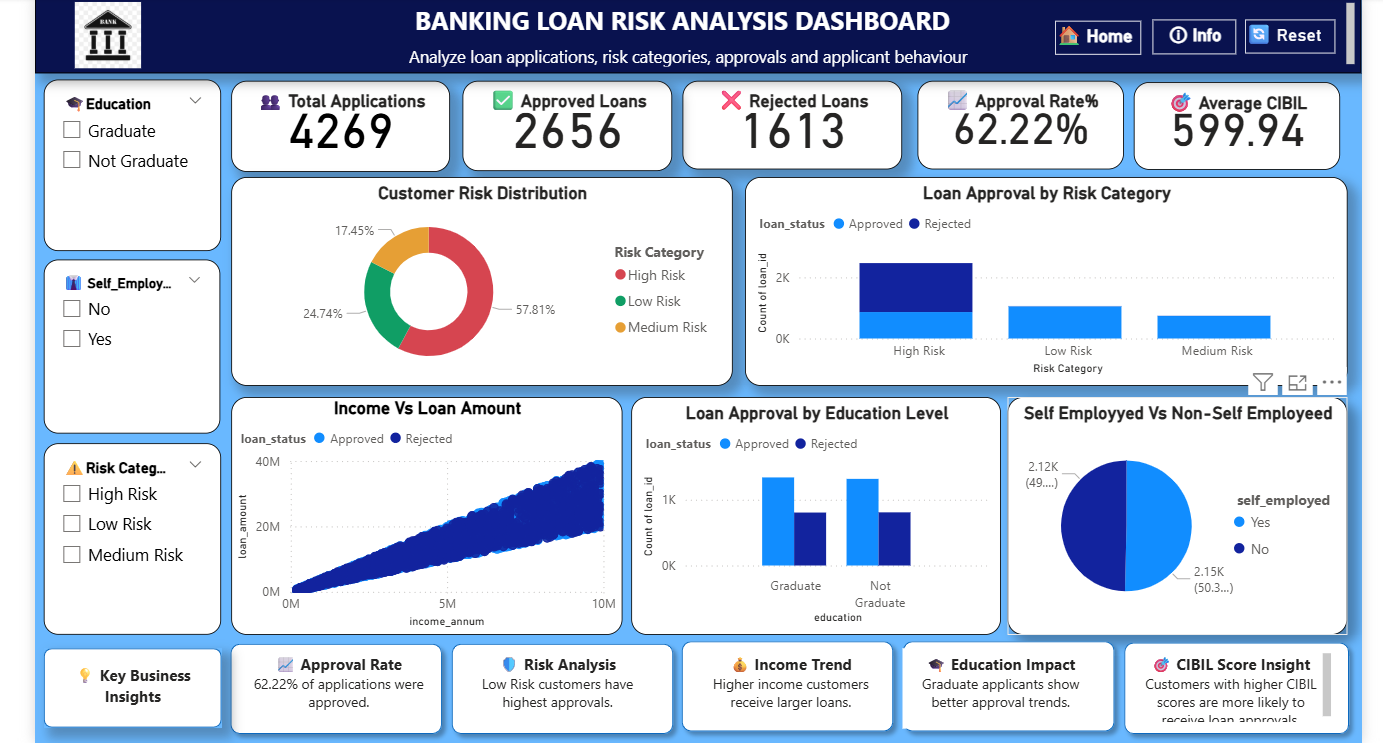

This screenshot's page, from the dashboard's own definition file:
{"tool":"powerbi","page":{"name":"Page 1","canvas":[1280,720],"ordinal":0},"visuals":[{"type":"card","title":"👥 Total Applications","fields":{"Values":["loan_approval_dataset.Total Applications"]},"box":[189.4,80.8,211.1,88.1],"z":0},{"type":"card","title":"❌ Rejected Loans","fields":{"Values":["loan_approval_dataset.Rejected Loans"]},"box":[624.9,80.8,212.3,85.7],"z":1000},{"type":"card","title":"🎯 Average CIBIL","fields":{"Values":["loan_approval_dataset.Average CIBIL"]},"box":[1060.5,82,199.1,84.5],"z":2000},{"type":"card","title":"✅ Approved Loans","fields":{"Values":["loan_approval_dataset.Approved Loans"]},"box":[412.6,80.8,202.7,86.9],"z":3000},{"type":"card","title":"📈 Approval Rate%","fields":{"Values":["loan_approval_dataset.Approval Rate %"]},"box":[851.7,80.8,199.1,85.7],"z":4000},{"type":"donutChart","title":"Customer Risk Distribution","fields":{"Category":["loan_approval_dataset.Risk Category"],"Y":["CountNonNull(loan_approval_dataset.loan_id)"]},"box":[189.4,173.7,483.8,201.5],"z":5000},{"type":"columnChart","title":"Loan Approval by Risk Category","fields":{"Category":["loan_approval_dataset.Risk Category"],"Y":["CountNonNull(loan_approval_dataset.loan_id)"],"Series":["loan_approval_dataset. loan_status"]},"box":[685.3,173.7,581.5,201.5],"z":6000},{"type":"scatterChart","title":"Income Vs Loan Amount","fields":{"X":["loan_approval_dataset. income_annum"],"Y":["loan_approval_dataset. loan_amount"],"Series":["loan_approval_dataset. loan_status"]},"box":[189.4,386.1,377.6,229.2],"z":7000},{"type":"clusteredColumnChart","title":"Loan Approval by Education Level","fields":{"Category":["loan_approval_dataset. education"],"Y":["CountNonNull(loan_approval_dataset.loan_id)"],"Series":["loan_approval_dataset. loan_status"]},"box":[575.5,386.1,357.1,229.2],"z":8000},{"type":"pieChart","title":"Self Employyed Vs Non-Self Employeed","fields":{"Category":["loan_approval_dataset. self_employed"],"Y":["CountNonNull(loan_approval_dataset.loan_id)"]},"box":[938.6,386.1,328.2,229.2],"z":9000},{"type":"slicer","fields":{"Values":["loan_approval_dataset. education"]},"box":[8.4,79.6,171.3,165.3],"z":10000},{"type":"slicer","fields":{"Values":["loan_approval_dataset. self_employed"]},"box":[8.4,253.4,170.1,167.7],"z":11000},{"type":"slicer","fields":{"Values":["loan_approval_dataset.Risk Category"]},"box":[8.4,430.7,171.3,184.6],"z":12000},{"type":"textbox","box":[0,0,1280,73.6],"z":13000},{"type":"image","box":[0,0,141.2,73.6],"z":14000},{"type":"actionButton","title":"🏠 Home","box":[984.5,22.9,83.2,32.6],"z":15000},{"type":"actionButton","title":"ⓘ Info","box":[1078.6,21.7,80.8,33.8],"z":16000},{"type":"actionButton","title":"🔄 Reset","box":[1167.8,21.7,86.9,32.6],"z":17000},{"type":"shape","box":[179.8,615.3,222,105],"z":18000},{"type":"textbox","box":[199.1,628.6,188.2,77.2],"z":19000},{"type":"shape","box":[393.3,615.3,231.6,105],"z":20000},{"type":"shape","box":[615.3,612.9,222,105],"z":21000},{"type":"shape","box":[828.8,612.9,222,105],"z":22000},{"type":"textbox","box":[412.6,628.6,183.4,77.2],"z":23000},{"type":"textbox","box":[640,628.8,180,77.5],"z":24000},{"type":"textbox","box":[837.3,628.6,189.4,77.2],"z":25000},{"type":"shape","box":[1042.5,613.8,235,106.2],"z":26000},{"type":"textbox","box":[1060,628.8,195,76.2],"z":27000},{"type":"shape","box":[8.3,628.3,171.7,76.7],"z":28000},{"type":"textbox","box":[17.5,640,152.5,51.2],"z":29000}]}

Visuals, with their boxes in screenshot pixels (x1, y1, x2, y2):
"👥 Total Applications" card: 225,74,447,167
"❌ Rejected Loans" card: 684,74,907,165
"🎯 Average CIBIL" card: 1142,76,1352,165
"✅ Approved Loans" card: 460,74,673,166
"📈 Approval Rate%" card: 923,74,1132,165
"Customer Risk Distribution" donutChart: 225,172,734,384
"Loan Approval by Risk Category" columnChart: 747,172,1360,384
"Income Vs Loan Amount" scatterChart: 225,396,623,637
"Loan Approval by Education Level" clusteredColumnChart: 632,396,1008,637
"Self Employyed Vs Non-Self Employeed" pieChart: 1014,396,1360,637
slicer - loan_approval_dataset. education: 34,73,215,247
slicer - loan_approval_dataset. self_employed: 34,256,213,433
slicer - loan_approval_dataset.Risk Category: 34,443,215,637
textbox: 25,0,1374,67
image: 25,0,174,67
"🏠 Home" actionButton: 1062,13,1150,48
"ⓘ Info" actionButton: 1162,12,1247,48
"🔄 Reset" actionButton: 1256,12,1347,46
shape: 215,637,449,742
textbox: 235,651,433,733
shape: 440,637,684,742
shape: 673,635,907,742
shape: 898,635,1132,742
textbox: 460,651,653,733
textbox: 699,652,889,733
textbox: 907,651,1107,733
shape: 1124,636,1371,742
textbox: 1142,652,1347,732
shape: 34,651,215,732
textbox: 44,663,204,717
